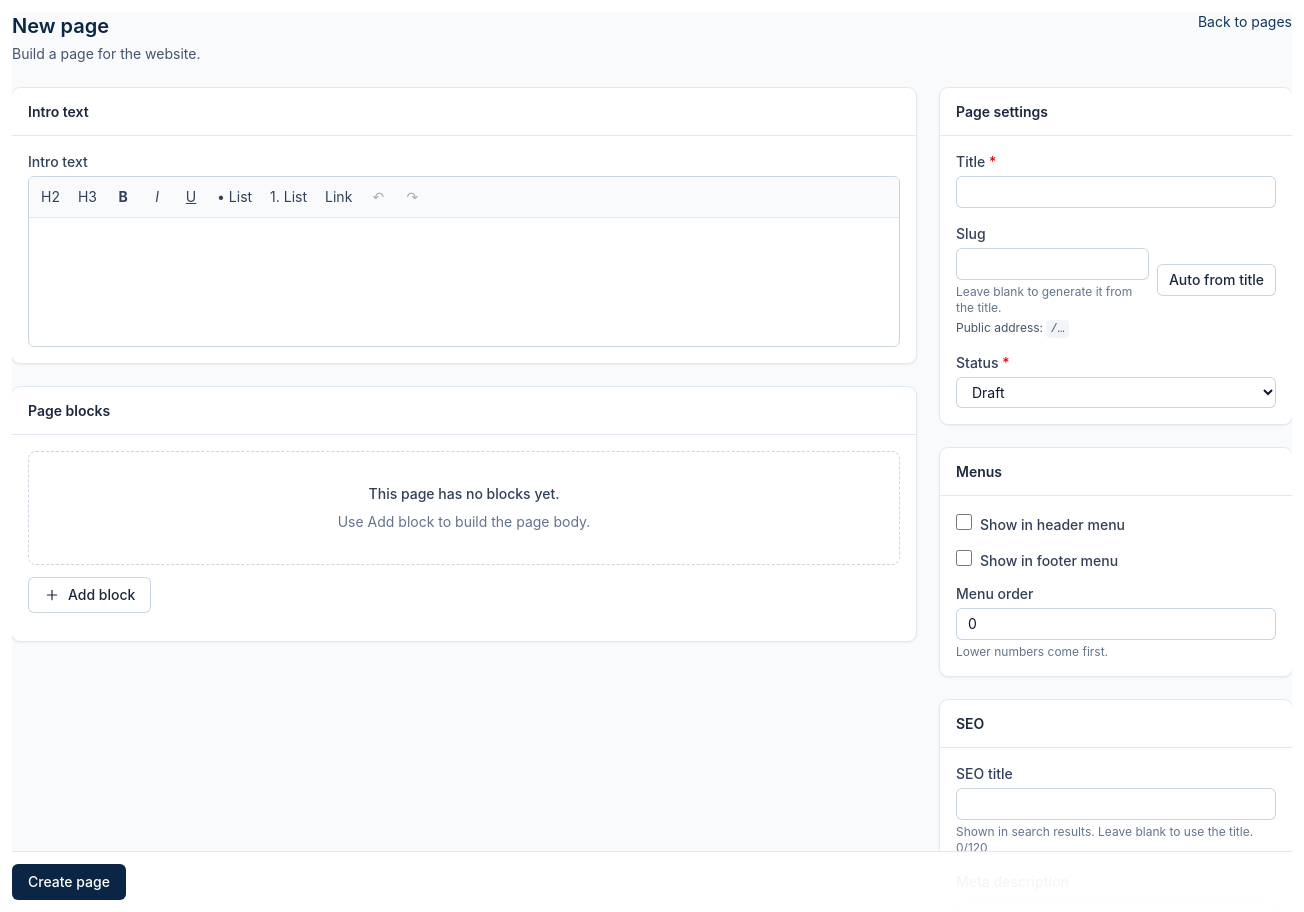
it: PageFormPage settings › previews the path from the title when creating a page
In the field labelled "Title *": (1116, 192) [956, 176, 1276, 208], type "Our Fleet"
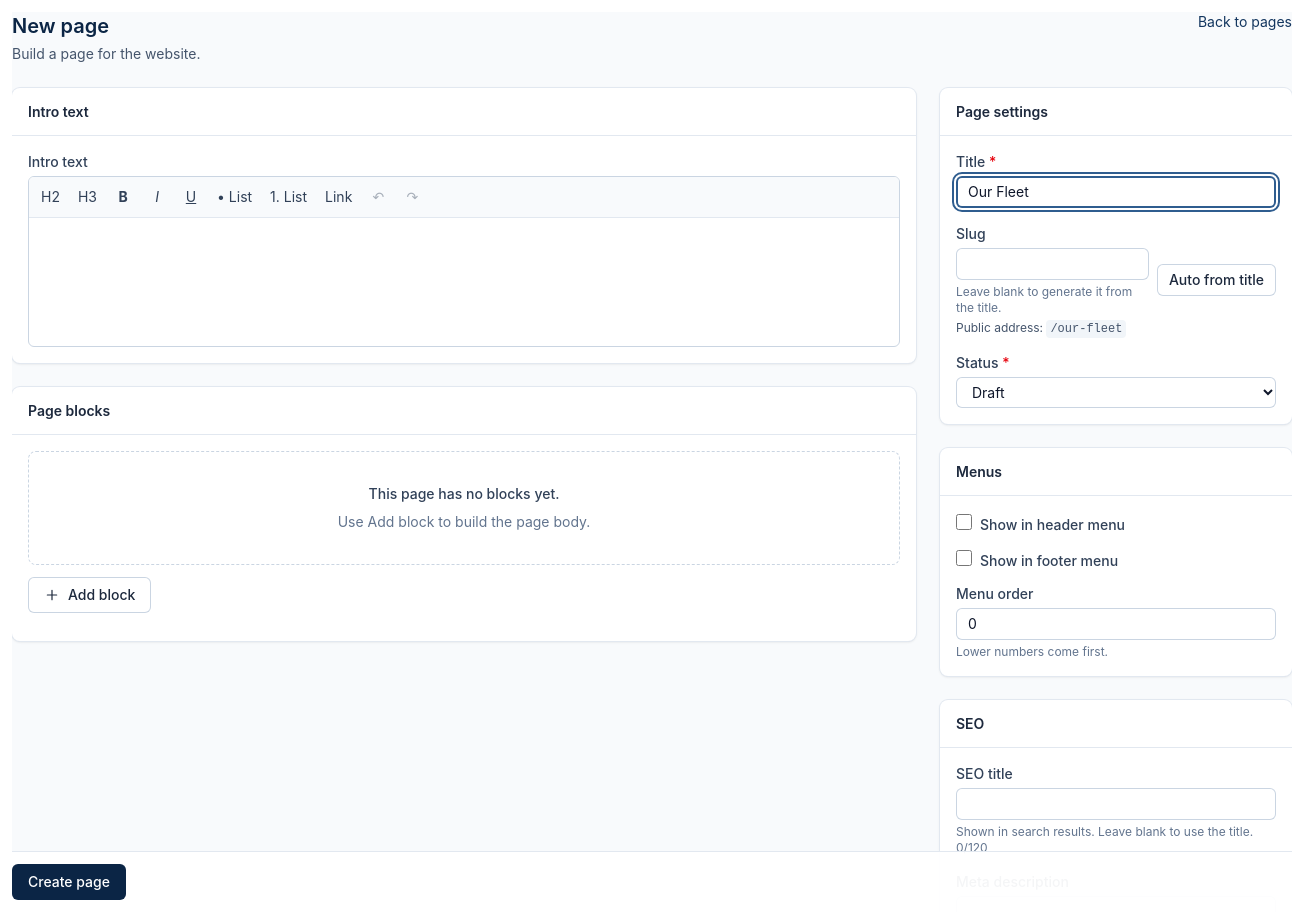
Check: the text with test id "slug-preview" reads "/our-fleet", box [1050, 322, 1122, 336]
